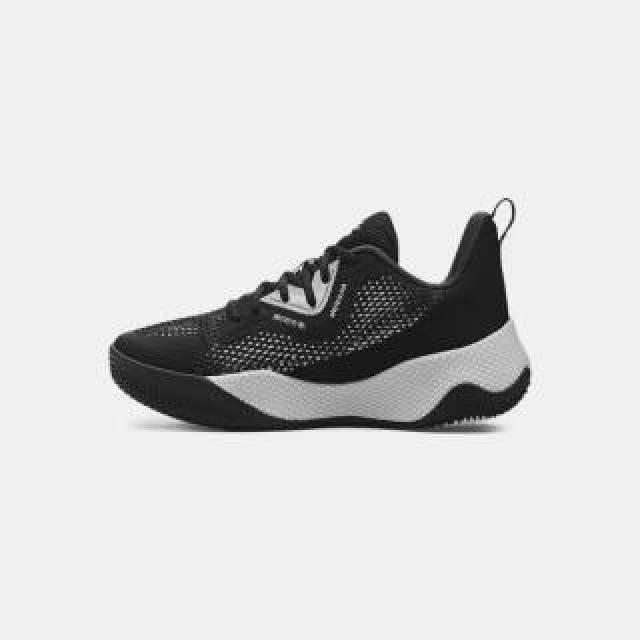shoe: (108, 205, 532, 433)
